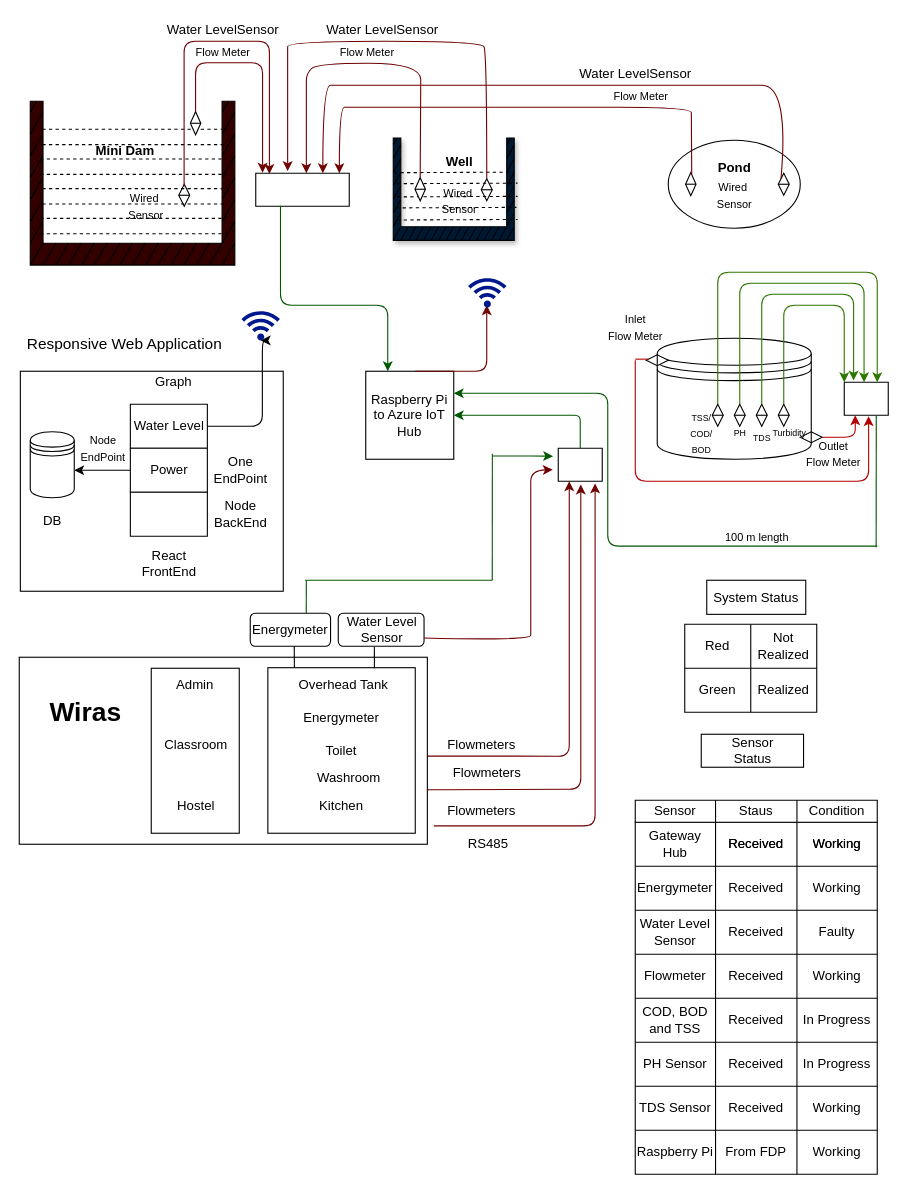
The diagram is 913 pixels wide and 1194 high, and some of its shapes have lost their labels. The shapes that lost their labels are listed below. From the top down, each one's centre as x and y in pixels, then its label:
At point (302, 189): "ED3 8 Port".
At point (865, 398): "ED1 8 Port".
At point (579, 464): "ED2 8 Port".
At point (168, 513): "Water Sensors".
